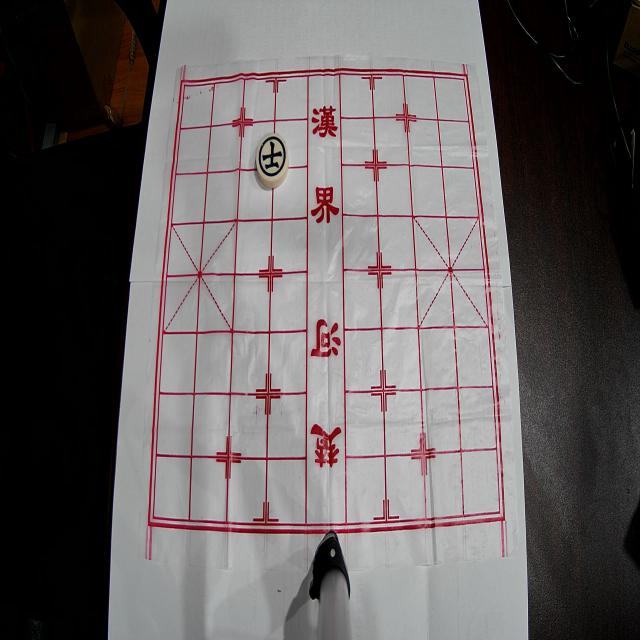black-guard: (256, 133, 289, 188)
